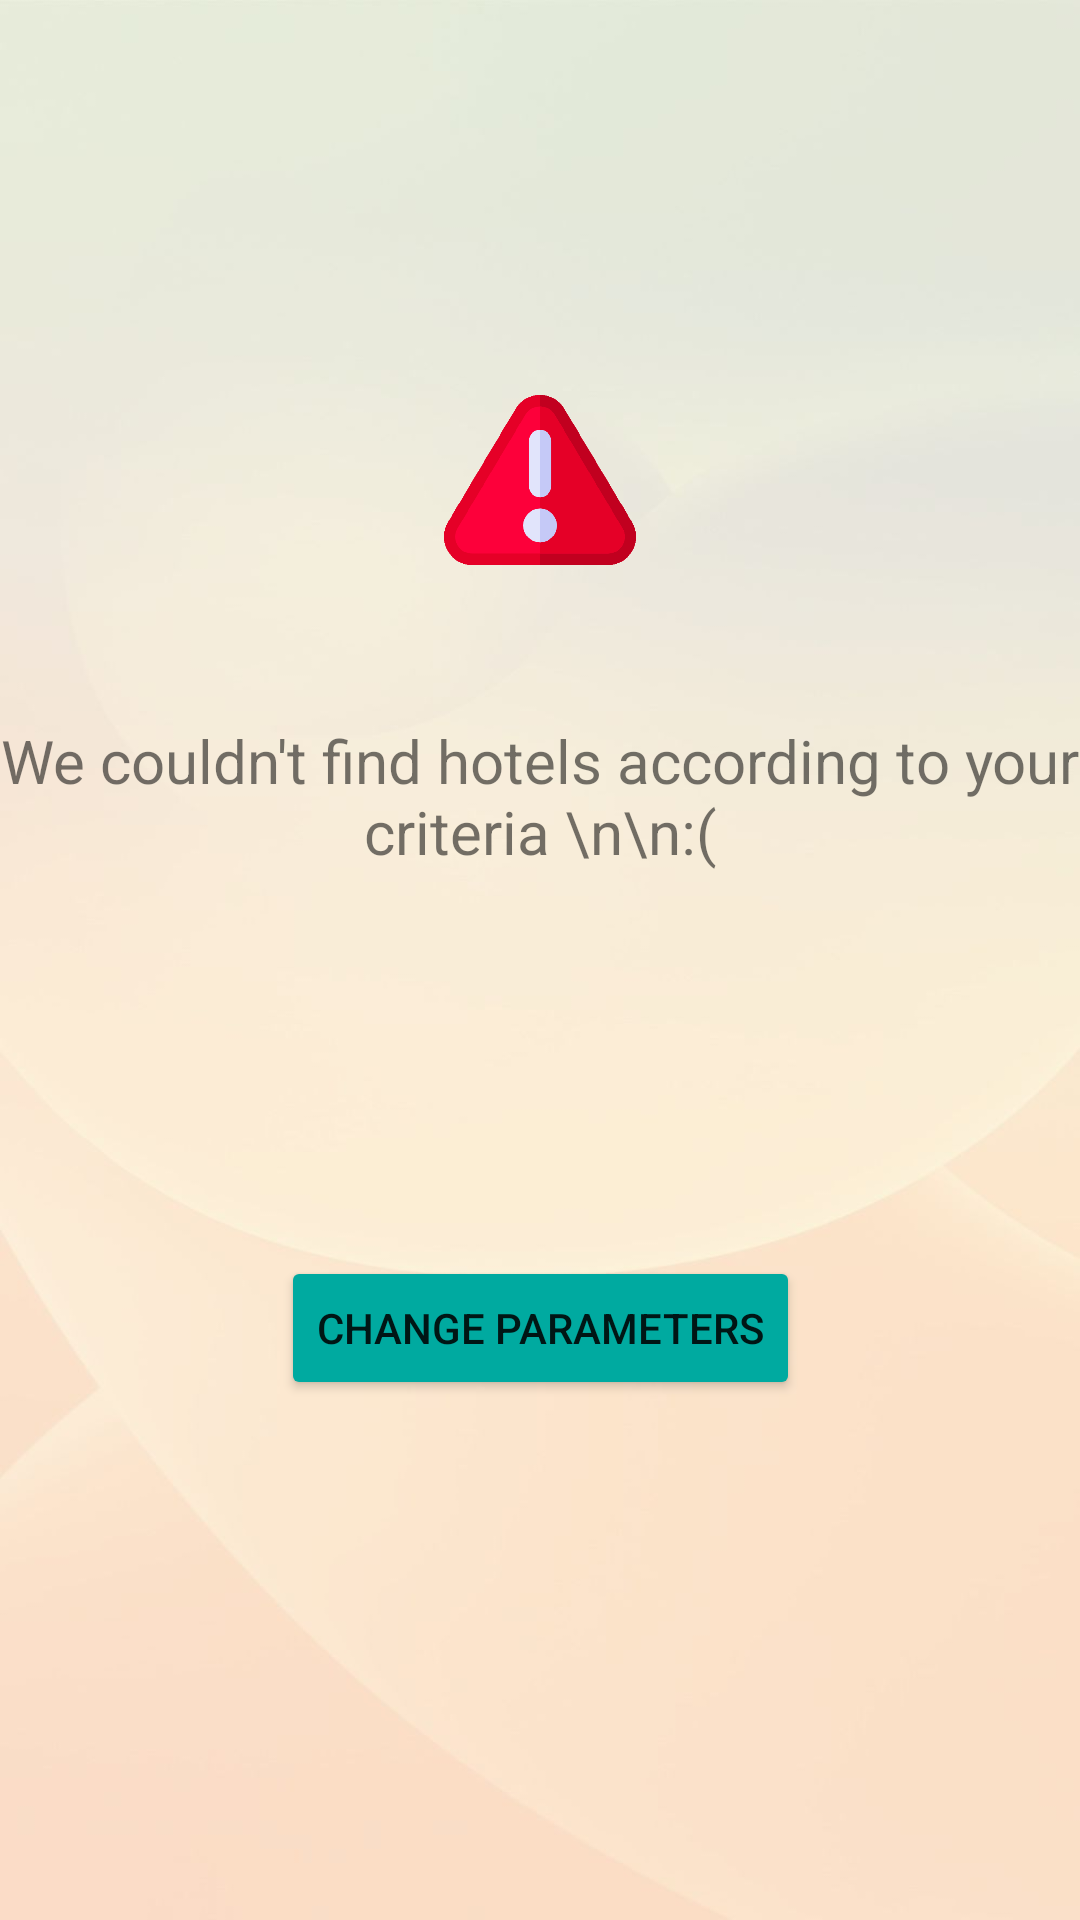

Locate icon controls on the screen. Image size 1080 × 1920, boxes as (left=x1, top=y1, right=x2, bottom=y2).
alert: (left=444, top=395, right=636, bottom=565)
